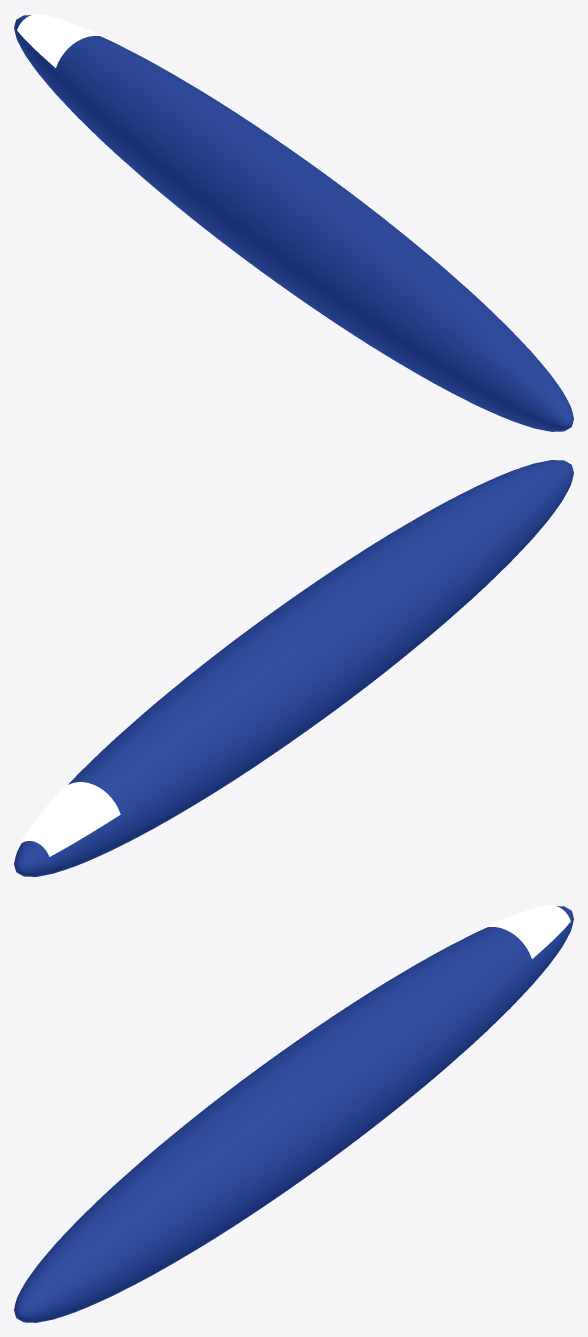
File: chiles.gltf
The picture shows the model from 3 angles, top to bottom: view 1: azimuth 30°, elevation 25°; view 2: azimuth 150°, elevation 25°; view 3: azimuth 330°, elevation 25°; orthographic projection.
Parts seen in each view (by area): view 1: hull, windshield; view 2: hull, windshield; view 3: hull, windshield.
Part boxes in pixels (x1,y1,x2,y2): hull: (14,15,573,431); windshield: (17,14,105,67); hull: (14,460,573,876); windshield: (19,782,120,856); hull: (14,906,573,1322); windshield: (482,905,570,958).
Bounding box in the file's own units: 3.17 × 3.17 × 30.
